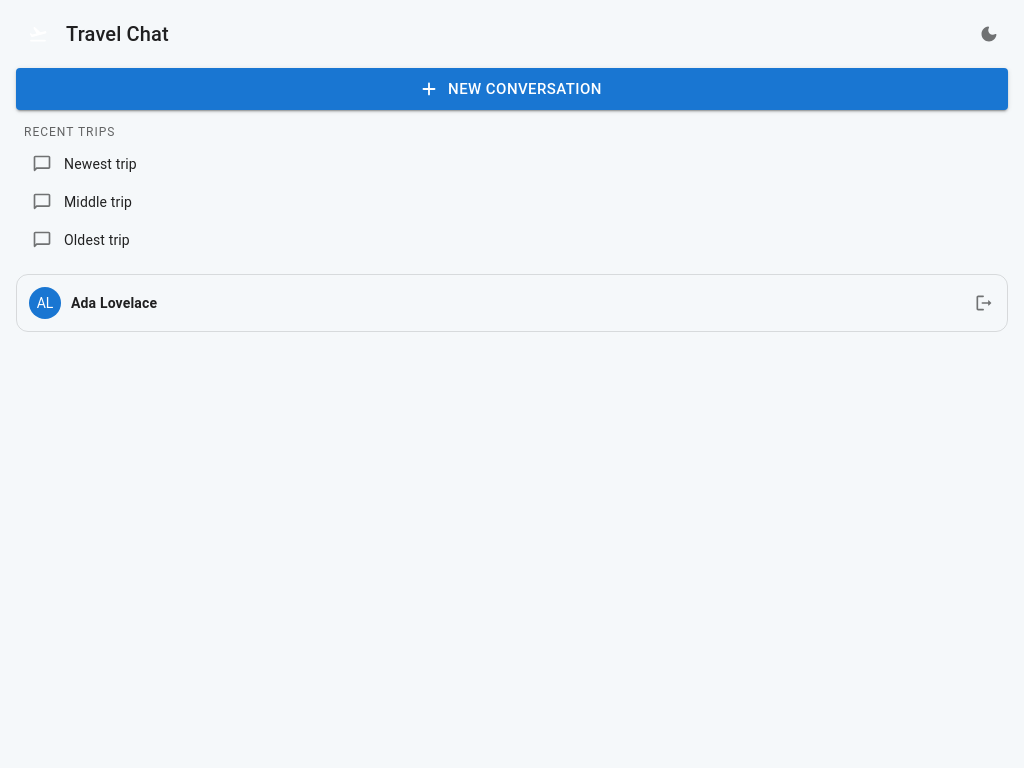
Sidebar › shows the error and keeps the value when the PUT fails
The image size is (1024, 768).
Click the button with aria-label "Profile": [45, 303] box 25,283 -> 961,323
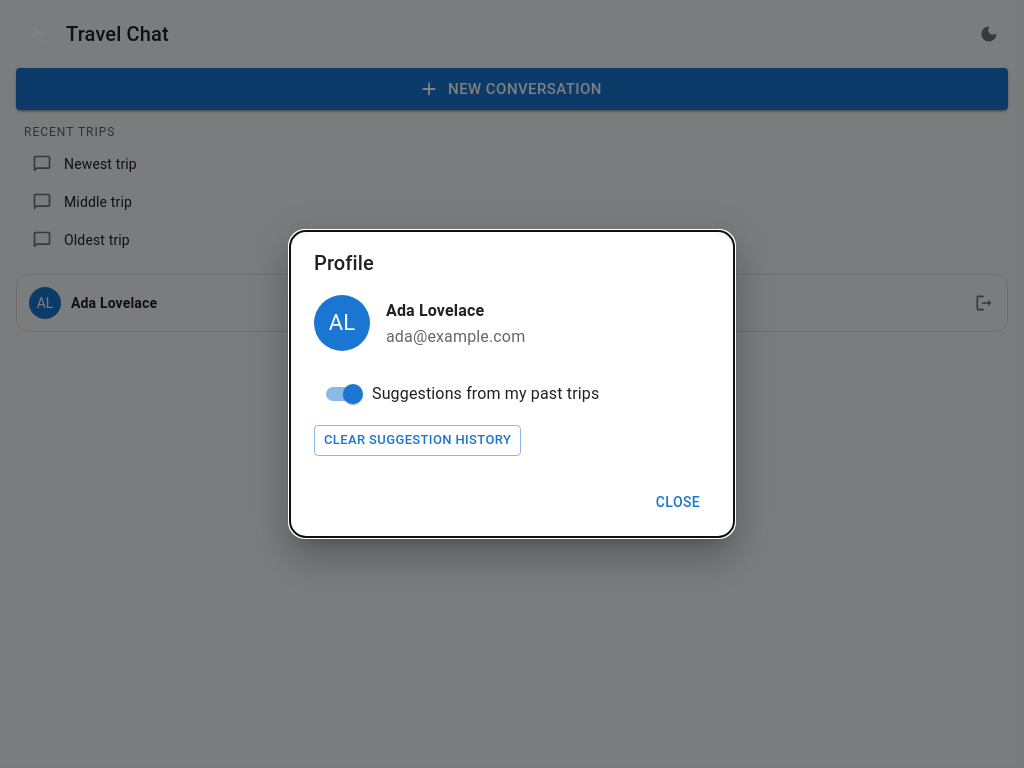
Now the switch labelled "Suggestions from my past trips" is enabled
Click the switch labelled "Suggestions from my past trips": [463, 394] box 326,384 -> 599,404
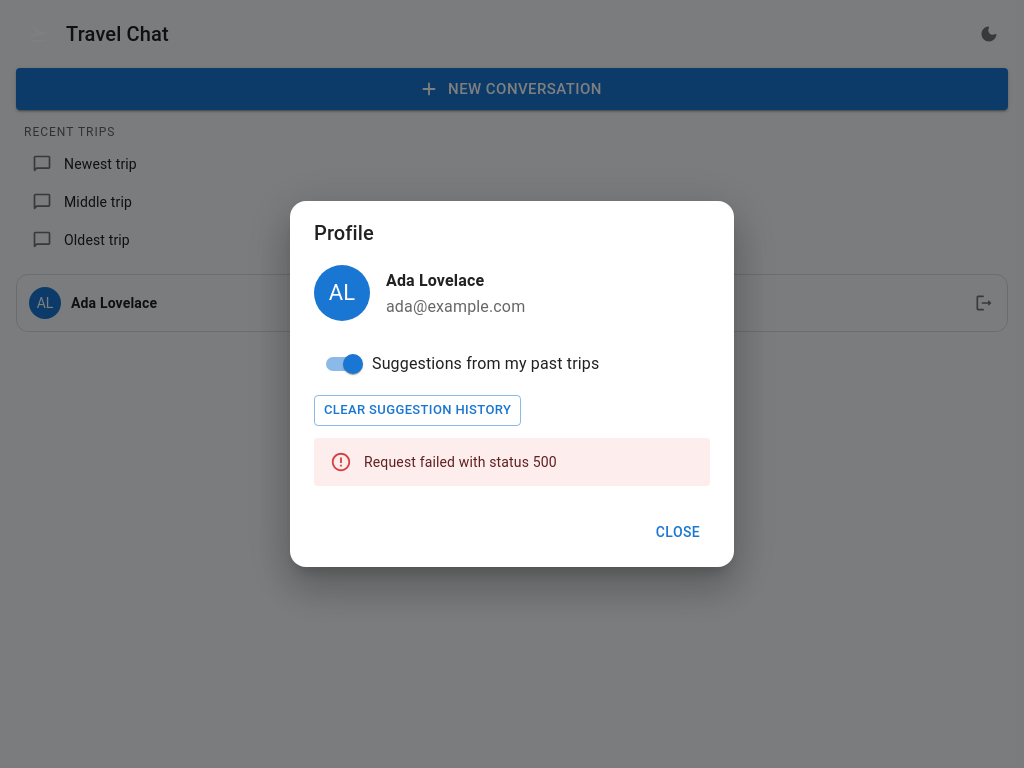
Now the switch labelled "Suggestions from my past trips" is checked, box 326,354 -> 599,374
Now the switch labelled "Suggestions from my past trips" is enabled, box 326,354 -> 599,374
Now the message "Request failed with status 500" is shown, box 314,438 -> 710,486
